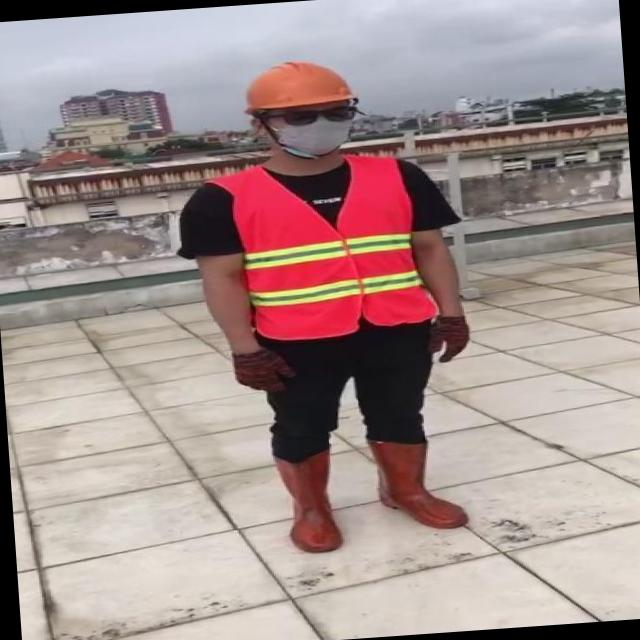hard_hat: (234, 51, 366, 119)
safety_vest: (230, 154, 432, 340)
vehicle: (160, 41, 492, 564)
work_boots: (366, 430, 468, 532), (272, 448, 341, 554)
